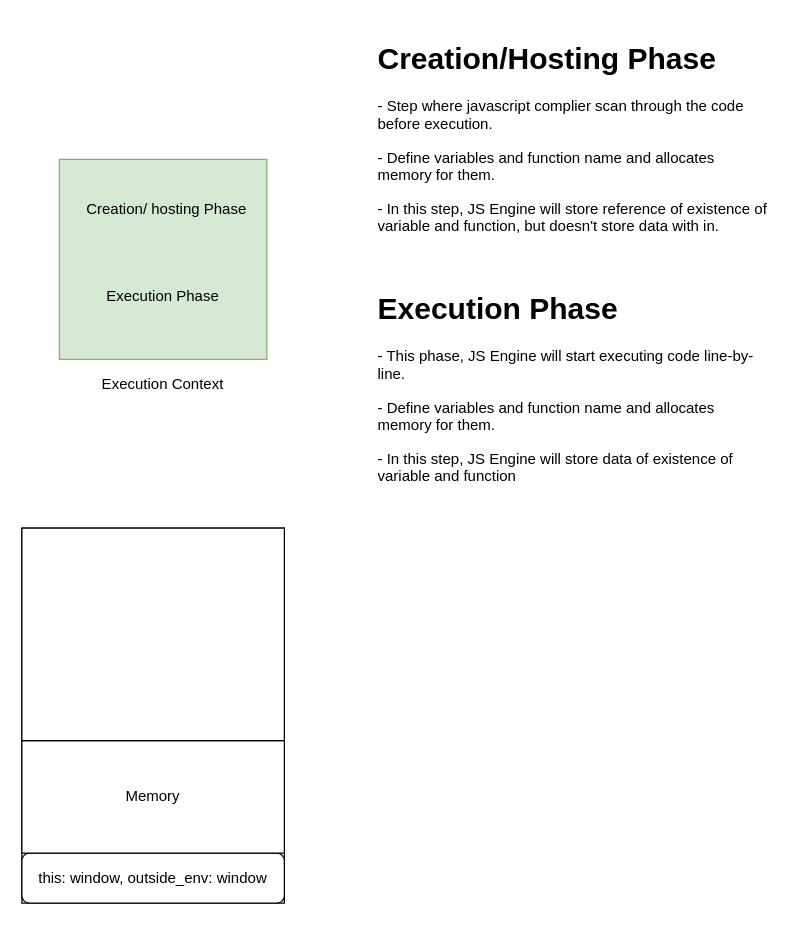
Image size: 794x925. Some labels were removed from this diagram. The box of each missing label's shape, as (x1, y1, x2, y2) in pixels:
2 Phase of JS Engine working: (58, 158, 267, 359)
Execution Thread: (21, 527, 284, 741)
